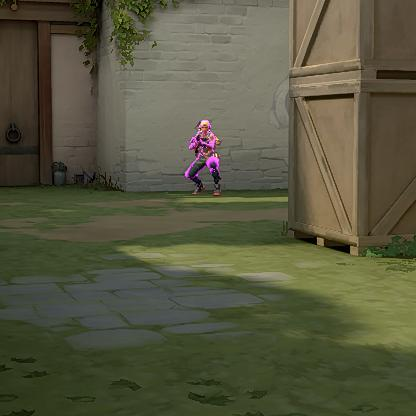enemyBody: (199, 133, 210, 153)
enemyHead: (201, 124, 208, 132)
